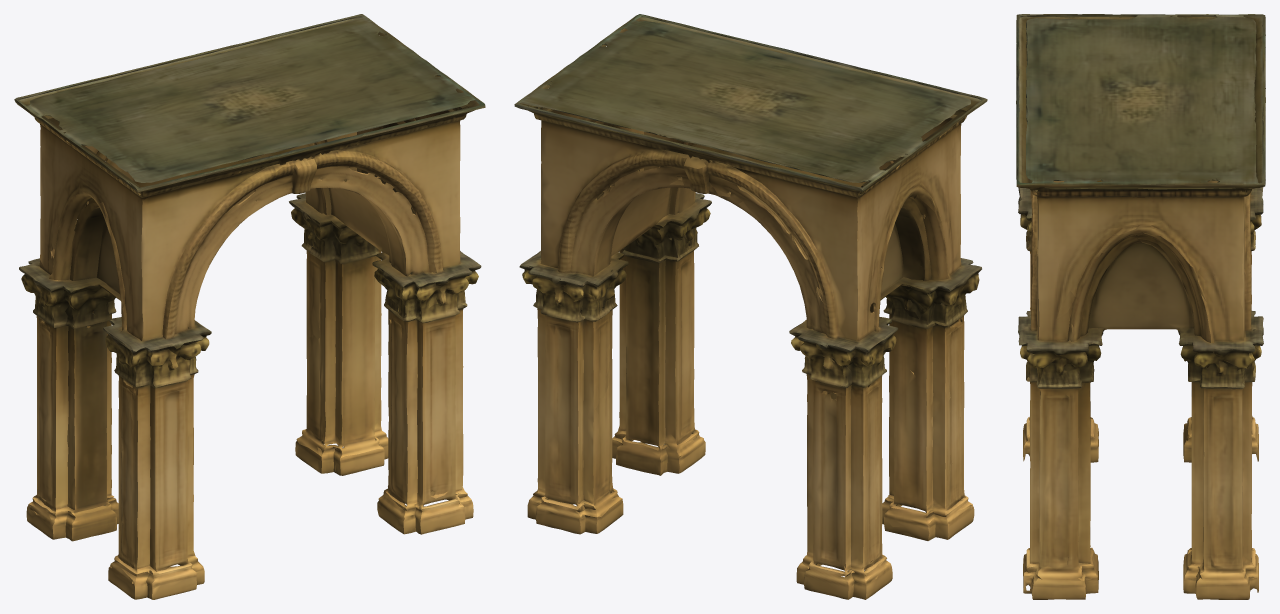
File: roman-garden-bay.glb
3 renders of one model, left to right at view 1: azimuth 30°, elevation 25°; view 2: azimuth 150°, elevation 25°; view 3: azimuth 270°, elevation 25°, orthographic.
Parts seen in each view (by area): view 1: roman-garden-bay-1; view 2: roman-garden-bay-1; view 3: roman-garden-bay-1.
Part boxes in pixels (box(x1,y1,x2,y2)): roman-garden-bay-1: box(14, 14, 485, 599); roman-garden-bay-1: box(514, 14, 987, 599); roman-garden-bay-1: box(1016, 14, 1265, 599).
Bounding box in the file's own units: 3.06 × 3.5 × 1.89.
1 material, 1 textured.
